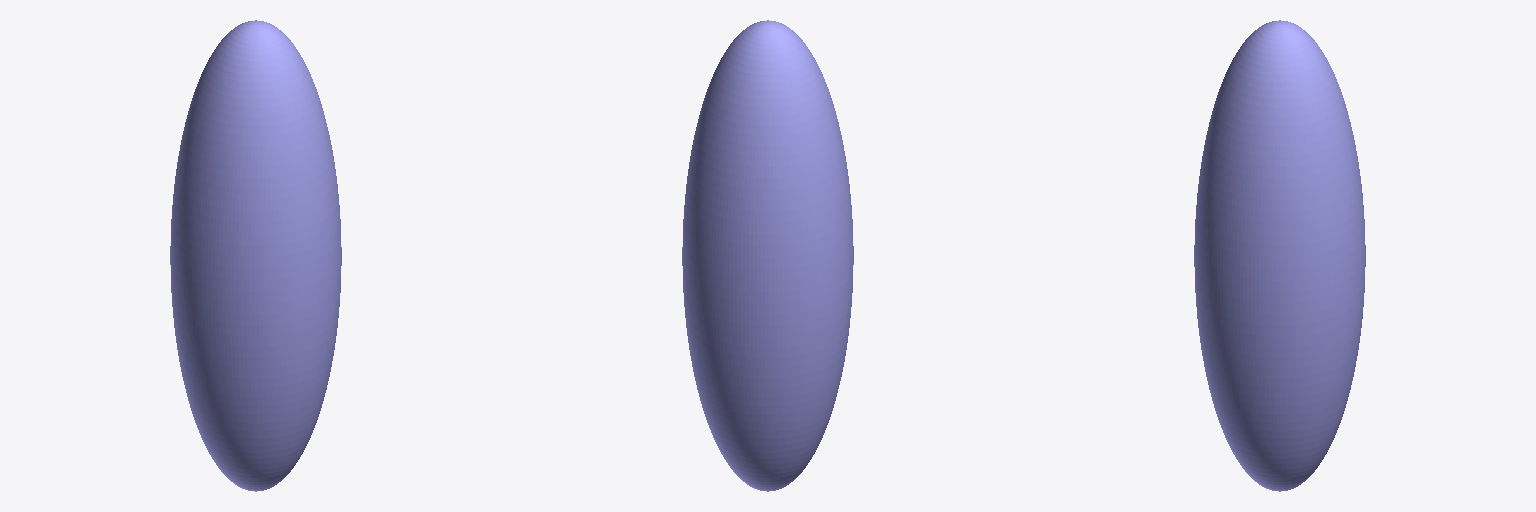
The robot description file, URDF, robot "crazyflie2":
<?xml version="1.0" ?>
<!-- =================================================================================== -->
<!-- |    This document was autogenerated by xacro from cf2_ccbf1.xacro                | -->
<!-- |    EDITING THIS FILE BY HAND IS NOT RECOMMENDED                                 | -->
<!-- =================================================================================== -->
<robot name="crazyflie2">
  <!-- [N.s^2] -->
  <link name="base_link">
    <inertial>
      <mass value="0.027"/>
      <origin xyz="0 0 0"/>
      <!-- Refer to page 39 in http://groups.csail.mit.edu/robotics-center/public_papers/Landry15.pdf -->
      <inertia ixx="2.3951e-5" ixy="0.0" ixz="0.0" iyy="2.3951e-5" iyz="0.0" izz="3.2347e-5"/>
      <!-- In Kg m^2 -->
    </inertial>
    <visual>
      <origin rpy="0 0 0" xyz="0 0 0"/>
      <geometry>
        <mesh filename="package://crazyflie_description/meshes/crazyflie2.dae"/>
      </geometry>
    </visual>
    <collision>
      <origin rpy="0 0 0" xyz="0 0 0"/>
      <geometry>
        <mesh filename="package://crazyflie_description/meshes/crazyflie2.dae"/>
      </geometry>
    </collision>
    <!-- ToDo: insert collision model -->
  </link>
  <link name="constraint">
    <visual>
      <origin rpy="0 0 0" xyz="0 0 0.0"/>
      <geometry>
        <mesh filename="package://ss_workshop/models/meshes/ellipsoid.stl" scale="1.0 1.0 1.0"/>
      </geometry>
      <material name="blueTransparent">
        <color rgba="0.7 0.7 1.0 0.4"/>
      </material>
    </visual>
  </link>
  <joint name="constraint_joint" type="fixed">
    <parent link="base_link"/>
    <child link="constraint"/>
    <origin rpy="0 0 0" xyz="0.0 0.0 0.0"/>
  </joint>
  <gazebo reference="constraint">
    <material>Gazebo/RedTransparent</material>
  </gazebo>
</robot>

--- What the picture shows (computed from the rendered views, not written in the file) ---
The picture shows the robot from 3 angles, left to right: view 1: azimuth 30°, elevation 25°; view 2: azimuth 150°, elevation 25°; view 3: azimuth 270°, elevation 25°; orthographic projection.
Model crazyflie2 with 2 links and 1 joints (1 fixed), rooted at base_link, posed every joint at zero.
Visible links, largest first — view 1: constraint; view 2: constraint; view 3: constraint.
Boxes of the visible links, x1,y1,x2,y2 form: constraint: [170, 20, 341, 491]; constraint: [682, 20, 853, 491]; constraint: [1194, 20, 1365, 491].
Bounding box of the posed robot: 0.4 × 0.4 × 1.2 m (x, y, z).
Meshes: 2 distinct files referenced, 1 mesh visuals loaded (1 binary STL); not drawn: 1 (reference not matched to a file when rendering).
